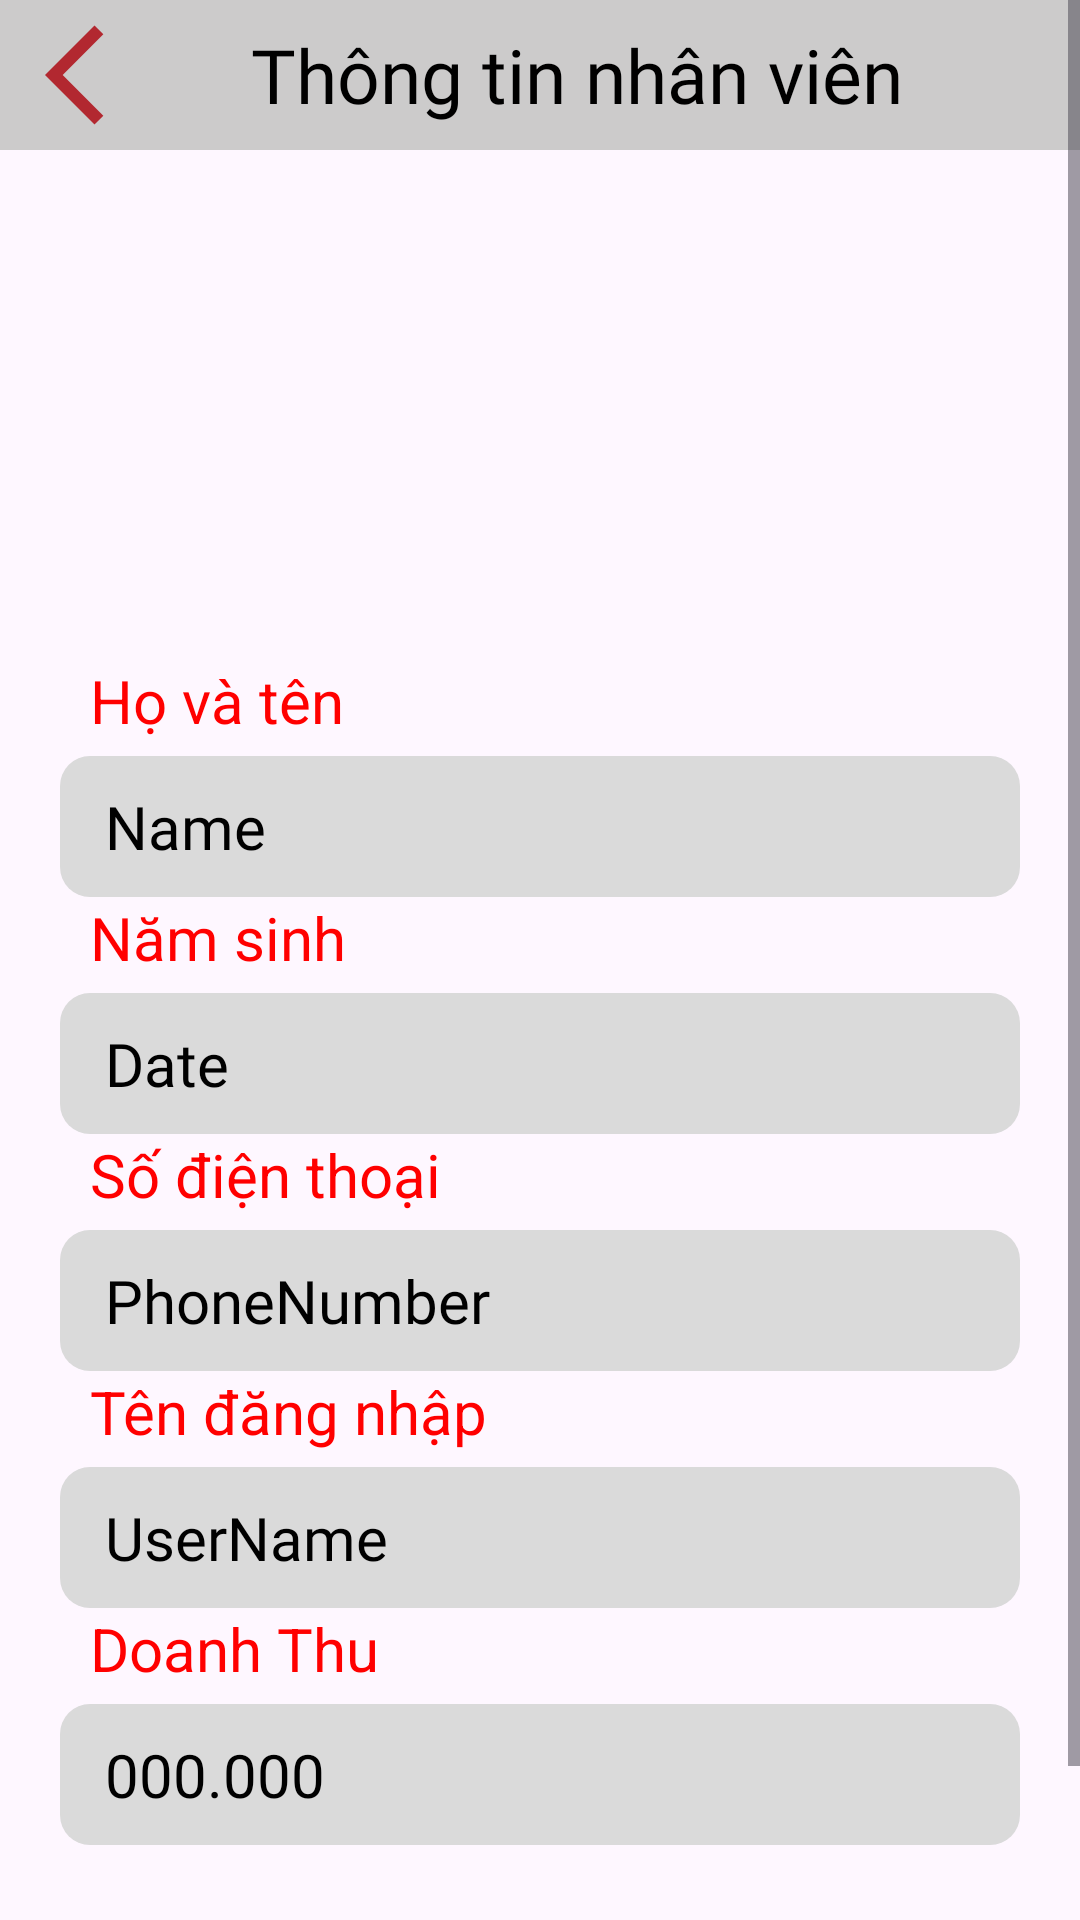

Icon click points for this 1080*1920 phone screenshot, format point (x, y):
to back: point (74, 75)
